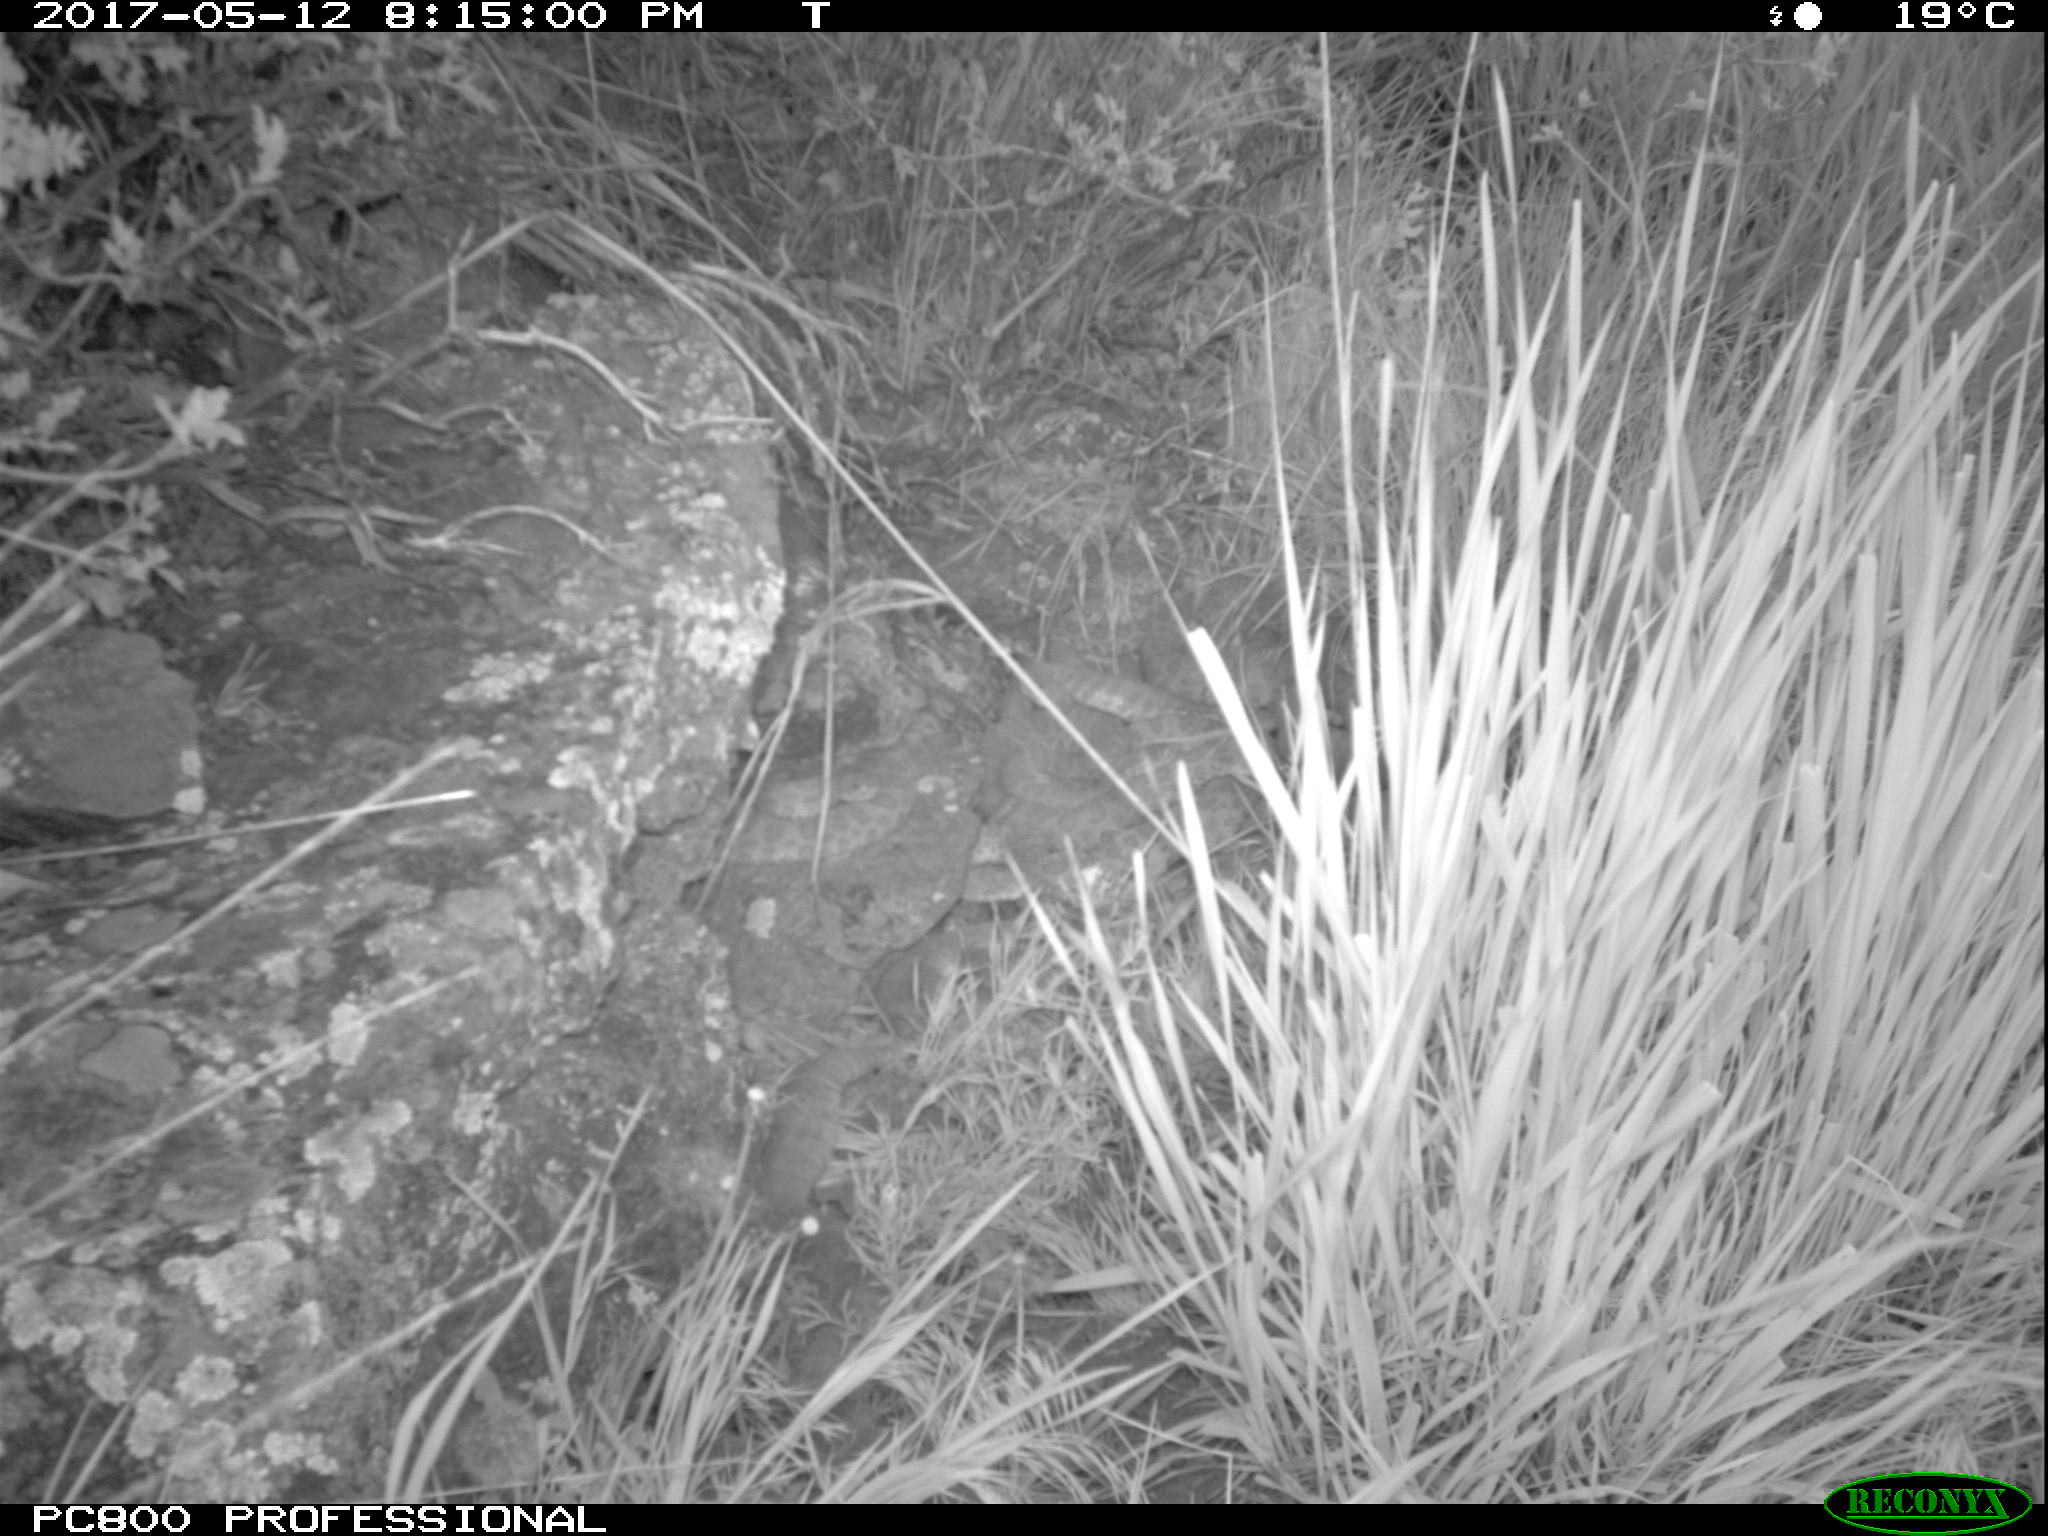snake: (1006, 663, 1250, 821), (755, 1034, 913, 1226), (706, 794, 930, 868)
